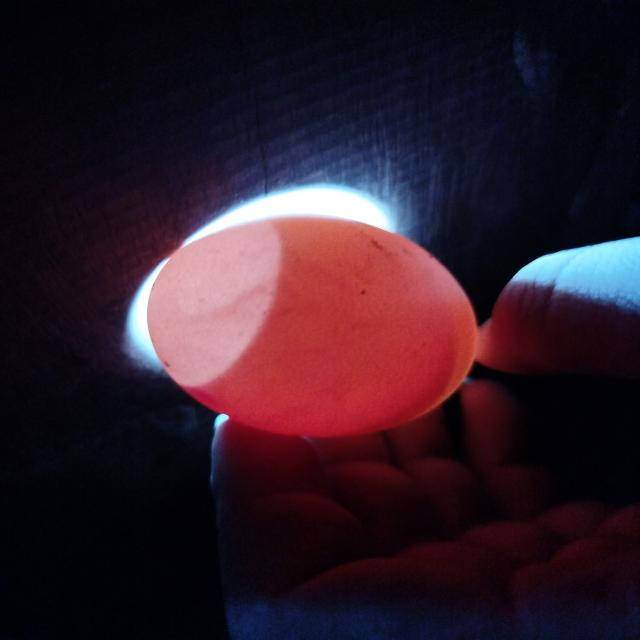Camara de Ar: (146, 219, 280, 386)
